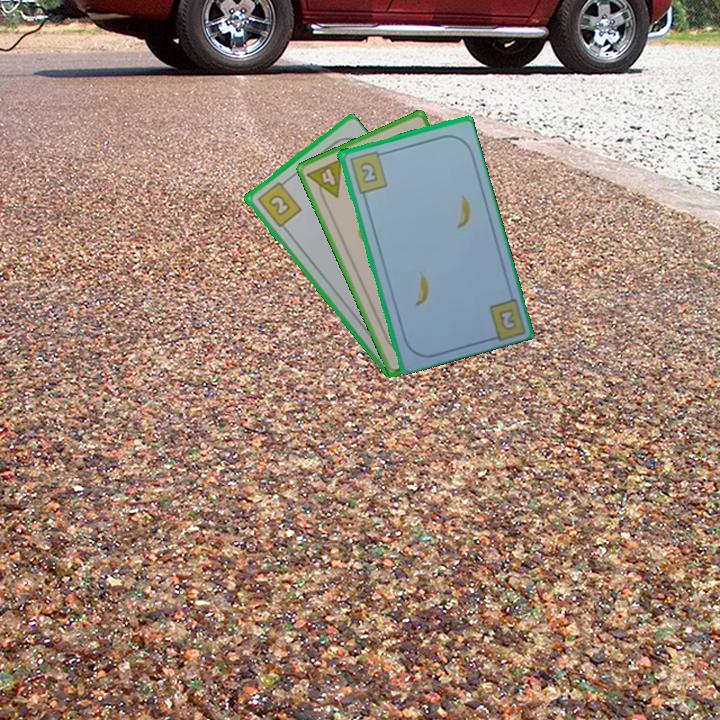2b: (253, 176, 304, 230), (346, 147, 390, 196), (494, 305, 520, 333)
4p: (303, 155, 345, 206)
